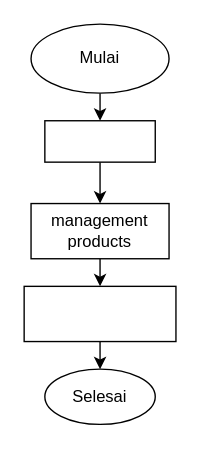
Image size: 200x449. Some labels were removed from this diagram. Here are the shapes that lost their labels. From the top down, the centre of each, then its label:
At (x=99, y=140): "login".
At (x=99, y=313): "management inventoris".
